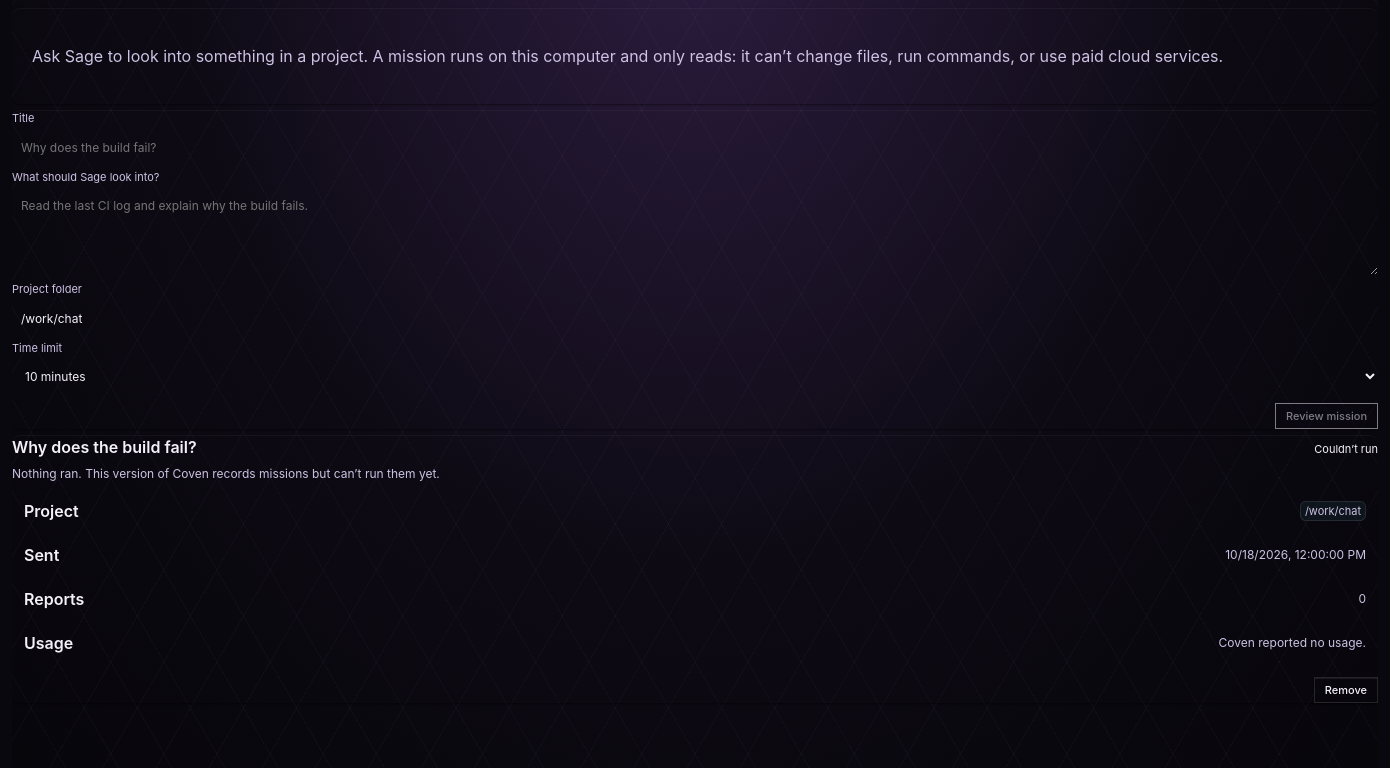
Missions tab › shows missions kept from before a restart and removes a finished one
Expected: the text "Couldn’t run" is shown, [1314,441,1378,458]
Click the button "Remove".
click(1346, 690)  # box [1314,677,1378,703]
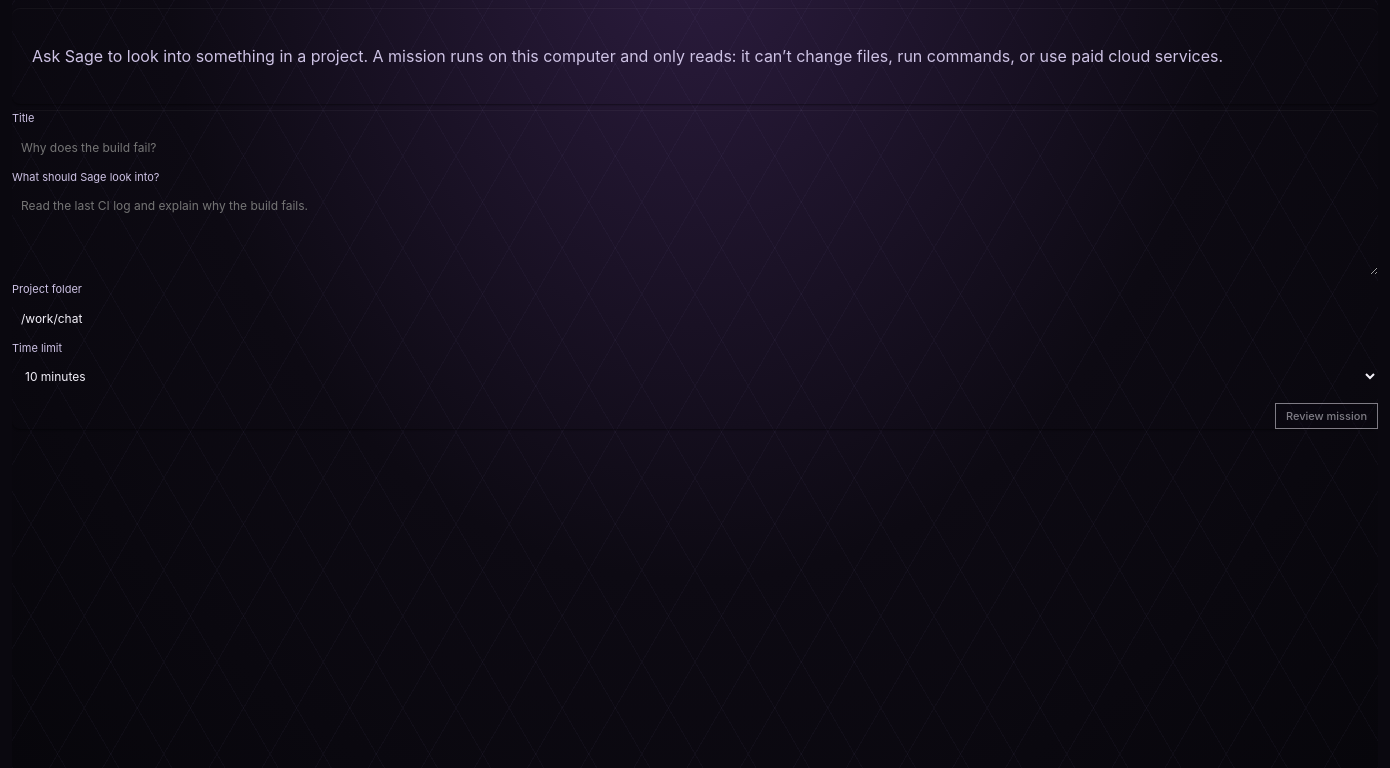
Result: the text "Couldn’t run" is gone
